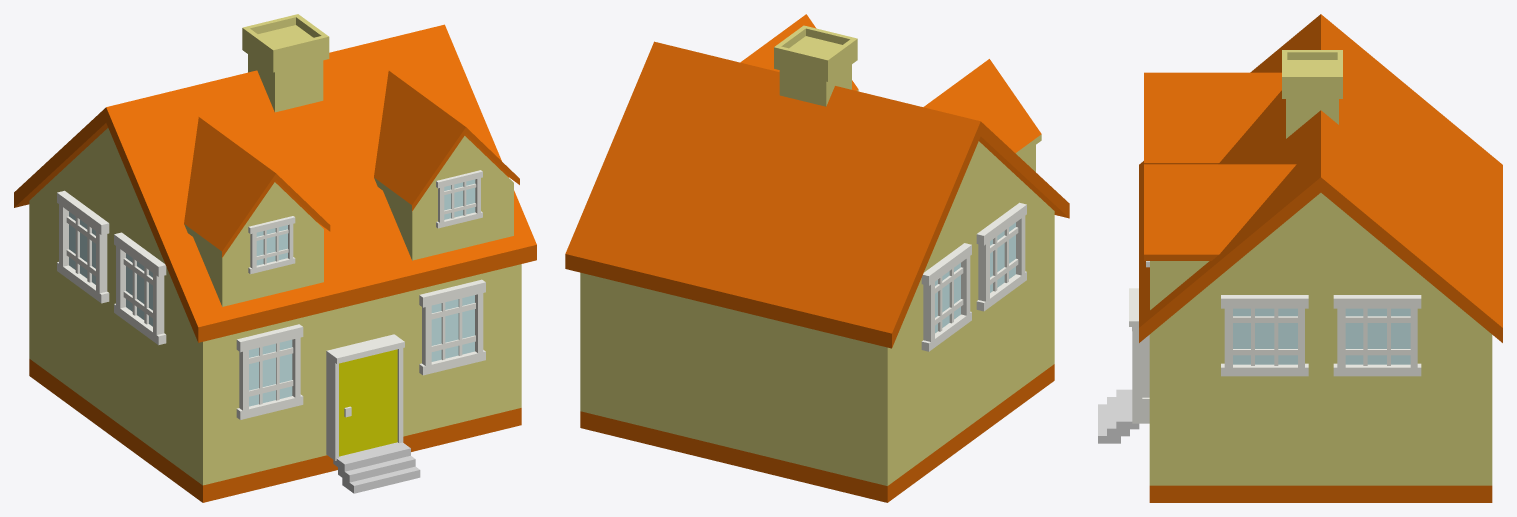
File: evdiki.fbx
3 views of the same model, side by side, from view 1: azimuth 30°, elevation 25°; view 2: azimuth 150°, elevation 25°; view 3: azimuth 270°, elevation 25° (orthographic). The views are drawn at different scales.
Visible parts, largest first — view 1: Cube.004, çatıiki, çatıbir, çatıbir.001, Cube.001, Cube.003, Cube.002, Cube.013, Cube.012, Cube.015, Cube.010, Cube.008 (+13 smaller); view 2: çatıiki, Cube.004, Cube.001, Cube.013, çatıbir, Cube.007, Cube.008, çatıbir.001, Plane.003, Plane.001; view 3: Cube.004, çatıiki, çatıbir.001, çatıbir, Cube.001, Cube.006, Cube.005, Cube.013, Plane.002, Plane, Cube, Cube.002 (+4 smaller).
Part boxes in pixels (left/top/right/bottom): Cube.004: left=29, top=128, right=521, bottom=485; çatıiki: left=14, top=24, right=536, bottom=342; çatıbir: left=184, top=117, right=330, bottom=257; çatıbir.001: left=374, top=71, right=519, bottom=211; Cube.001: left=29, top=359, right=521, bottom=502; Cube.003: left=184, top=182, right=323, bottom=306; Cube.002: left=374, top=136, right=513, bottom=260; Cube.013: left=242, top=14, right=329, bottom=112; Cube.012: left=339, top=349, right=397, bottom=456; Cube.015: left=419, top=279, right=485, bottom=375; Cube.010: left=236, top=324, right=303, bottom=419; Cube.008: left=57, top=190, right=109, bottom=303; çatıiki: left=565, top=41, right=1069, bottom=348; Cube.004: left=580, top=141, right=1054, bottom=485; Cube.001: left=580, top=364, right=1054, bottom=502; Cube.013: left=774, top=25, right=857, bottom=106; çatıbir: left=923, top=59, right=1041, bottom=152; Cube.007: left=976, top=202, right=1026, bottom=311; Cube.008: left=921, top=243, right=971, bottom=351; çatıbir.001: left=740, top=14, right=858, bottom=90; Plane.003: left=935, top=263, right=960, bottom=333; Plane.001: left=990, top=222, right=1015, bottom=292; Cube.004: left=1149, top=193, right=1492, bottom=485; çatıiki: left=1139, top=14, right=1502, bottom=342; çatıbir.001: left=1144, top=164, right=1296, bottom=260; çatıbir: left=1144, top=72, right=1281, bottom=164; Cube.001: left=1149, top=485, right=1492, bottom=502; Cube.006: left=1333, top=295, right=1421, bottom=376; Cube.005: left=1221, top=295, right=1308, bottom=376; Cube.013: left=1282, top=50, right=1342, bottom=138; Plane.002: left=1345, top=308, right=1410, bottom=364; Plane: left=1233, top=308, right=1297, bottom=364; Cube: left=1129, top=288, right=1149, bottom=423; Cube.002: left=1150, top=261, right=1209, bottom=309.
Size of the model in its own units: 1936 by 2034 by 2030.
